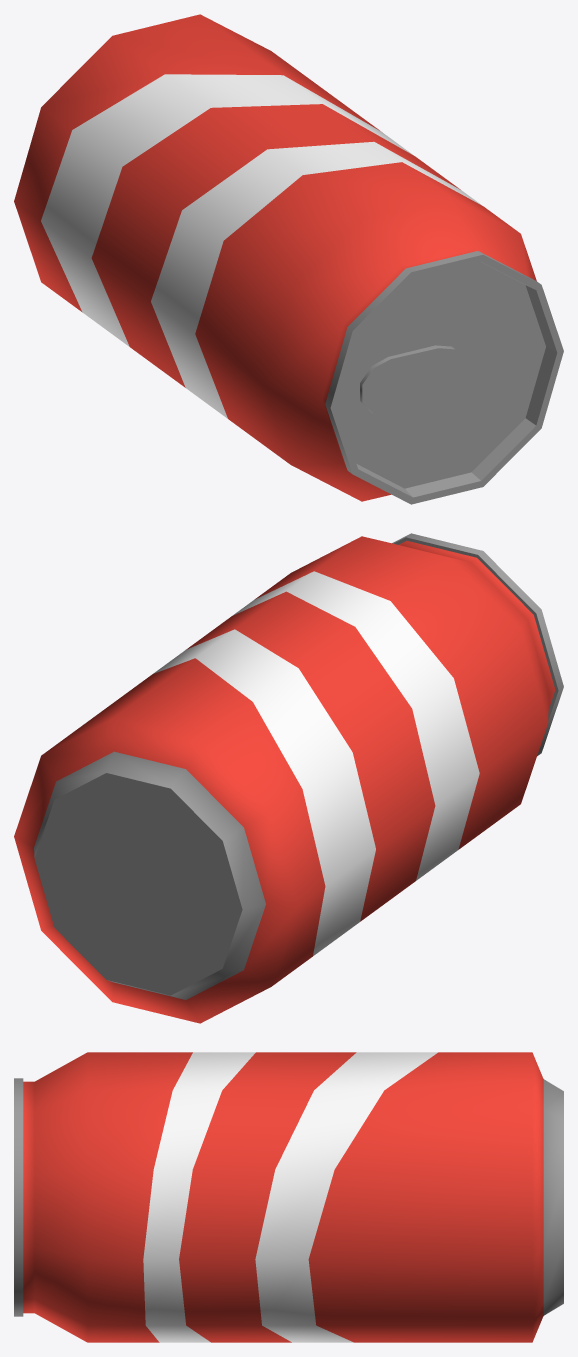
The model's file is SodaCan_01.gltf.
3 views of the same model, one above another, from view 1: azimuth 30°, elevation 25°; view 2: azimuth 150°, elevation 25°; view 3: azimuth 270°, elevation 25° (orthographic). The views are drawn at different scales.
Parts seen in each view (by area): view 1: node-0; view 2: node-0; view 3: node-0.
Boxes of the visible parts, box(x1,y1,x2,y2) form: node-0: box(14, 14, 563, 504); node-0: box(14, 533, 563, 1023); node-0: box(14, 1052, 563, 1342).
Bounding box in the file's own units: 92.68 × 88.14 × 174.
